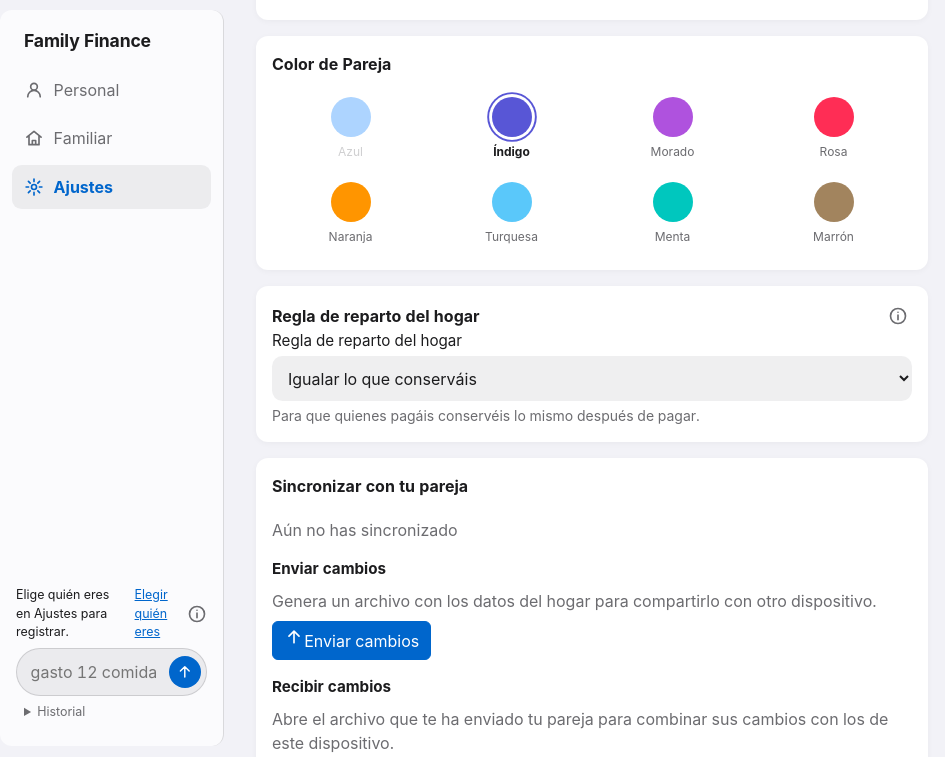
settings › B7 A7: changes the household split rule
(page scrolled)
Select "Proporcional al ingreso" in the dropdown labelled "Regla de reparto del hogar": {"x": 592, "y": 379} left=272, top=356, right=912, bottom=401
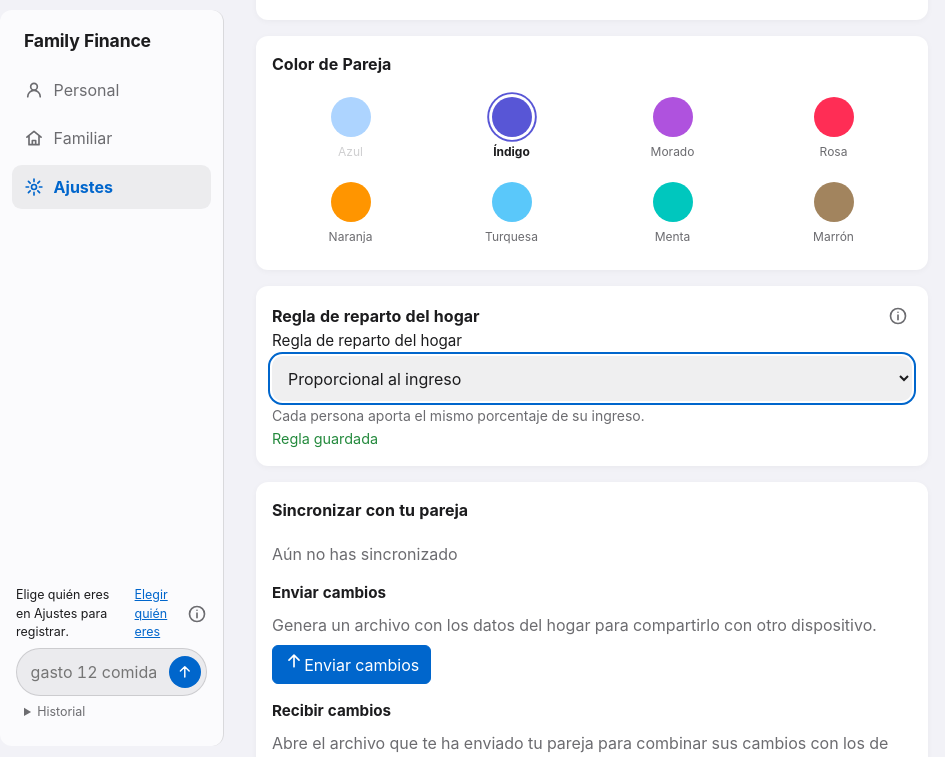
Check: the text "Regla guardada" is shown, box left=272, top=430, right=378, bottom=447
